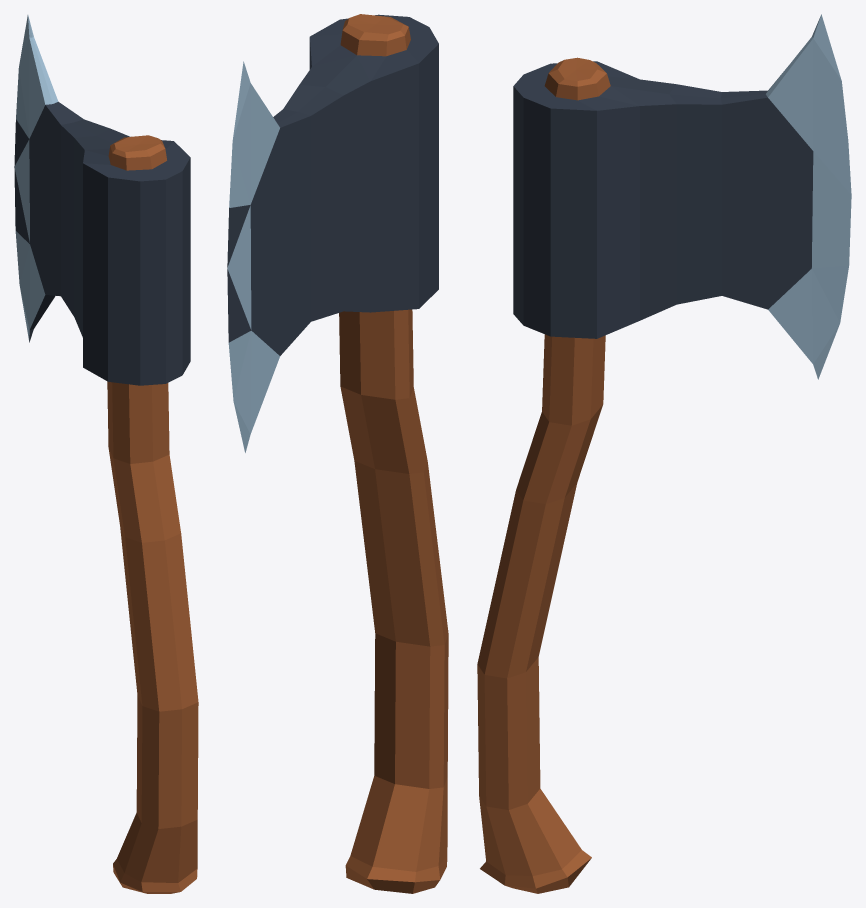
The model's file is axe02.fbx.
3 renders of one model, left to right at view 1: azimuth 30°, elevation 25°; view 2: azimuth 150°, elevation 25°; view 3: azimuth 270°, elevation 25°, orthographic. The views are drawn at different scales.
Visible parts, largest first — view 1: Plane; view 2: Plane; view 3: Plane.
Part boxes in pixels (<box>): Plane: <box>14,15,198,893</box>; Plane: <box>227,14,448,893</box>; Plane: <box>477,14,851,893</box>.
Bounding box in the file's own units: 42.7 × 348 × 136.
